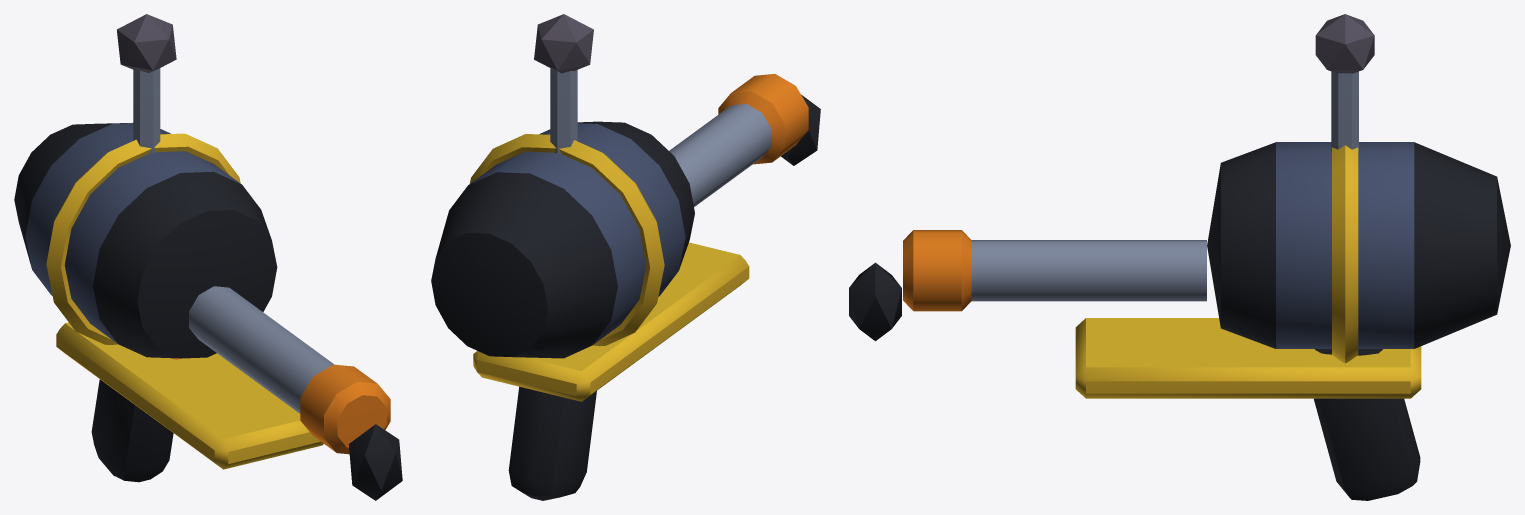
Rendered from w_b_tar.glb.
The picture shows the model from 3 angles, left to right: view 1: azimuth 30°, elevation 25°; view 2: azimuth 150°, elevation 25°; view 3: azimuth 270°, elevation 25°; orthographic projection. The views are drawn at different scales.
Visible parts, largest first — view 1: body; view 2: body; view 3: body.
Boxes of the visible parts, x1,y1,x2,y2 form: body: [14, 14, 402, 500]; body: [431, 14, 820, 500]; body: [849, 14, 1510, 500].
Size of the model in its own units: 0.2924 by 0.6557 by 0.8145.
